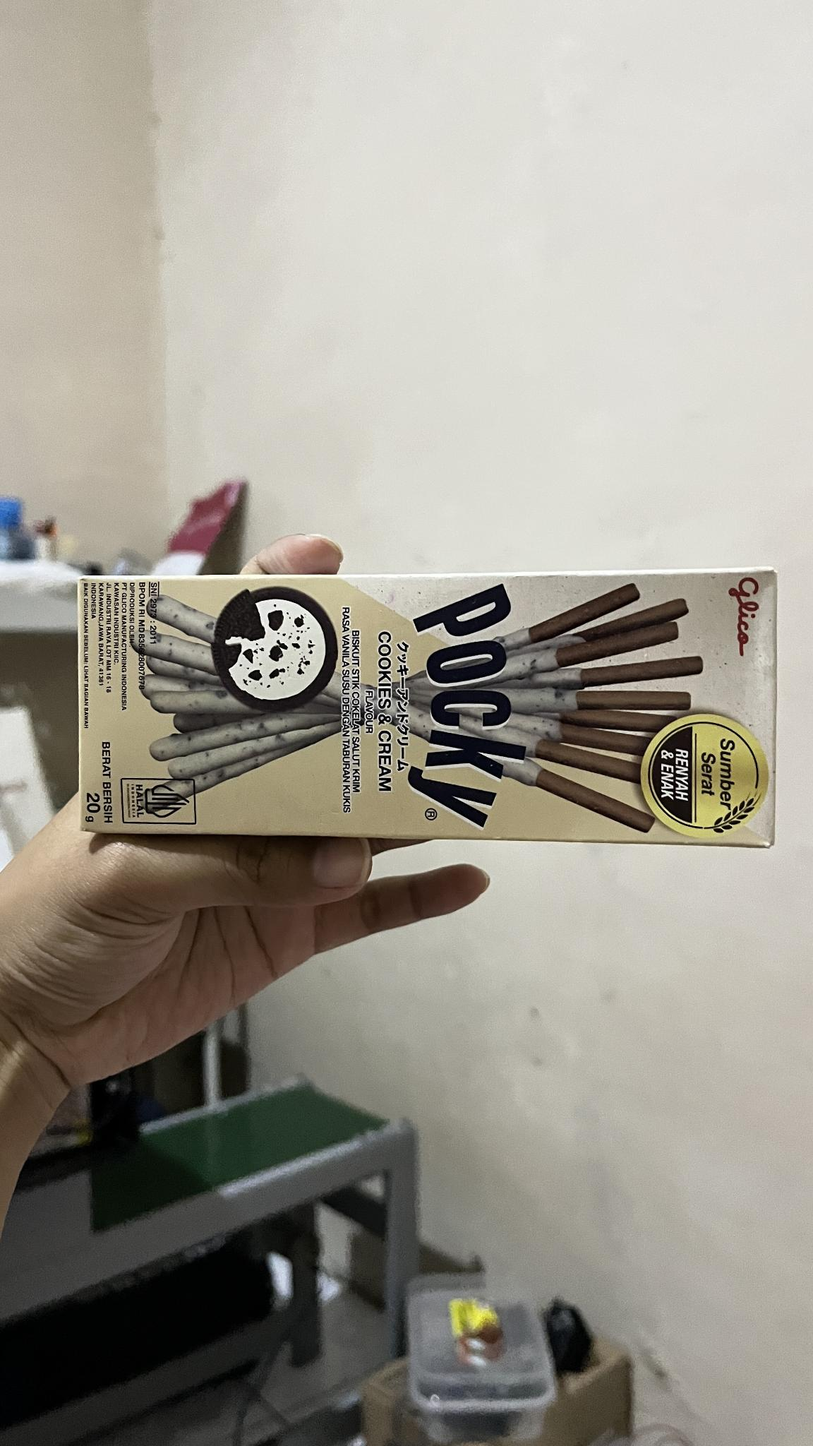Kertas: (65, 585, 767, 836)
